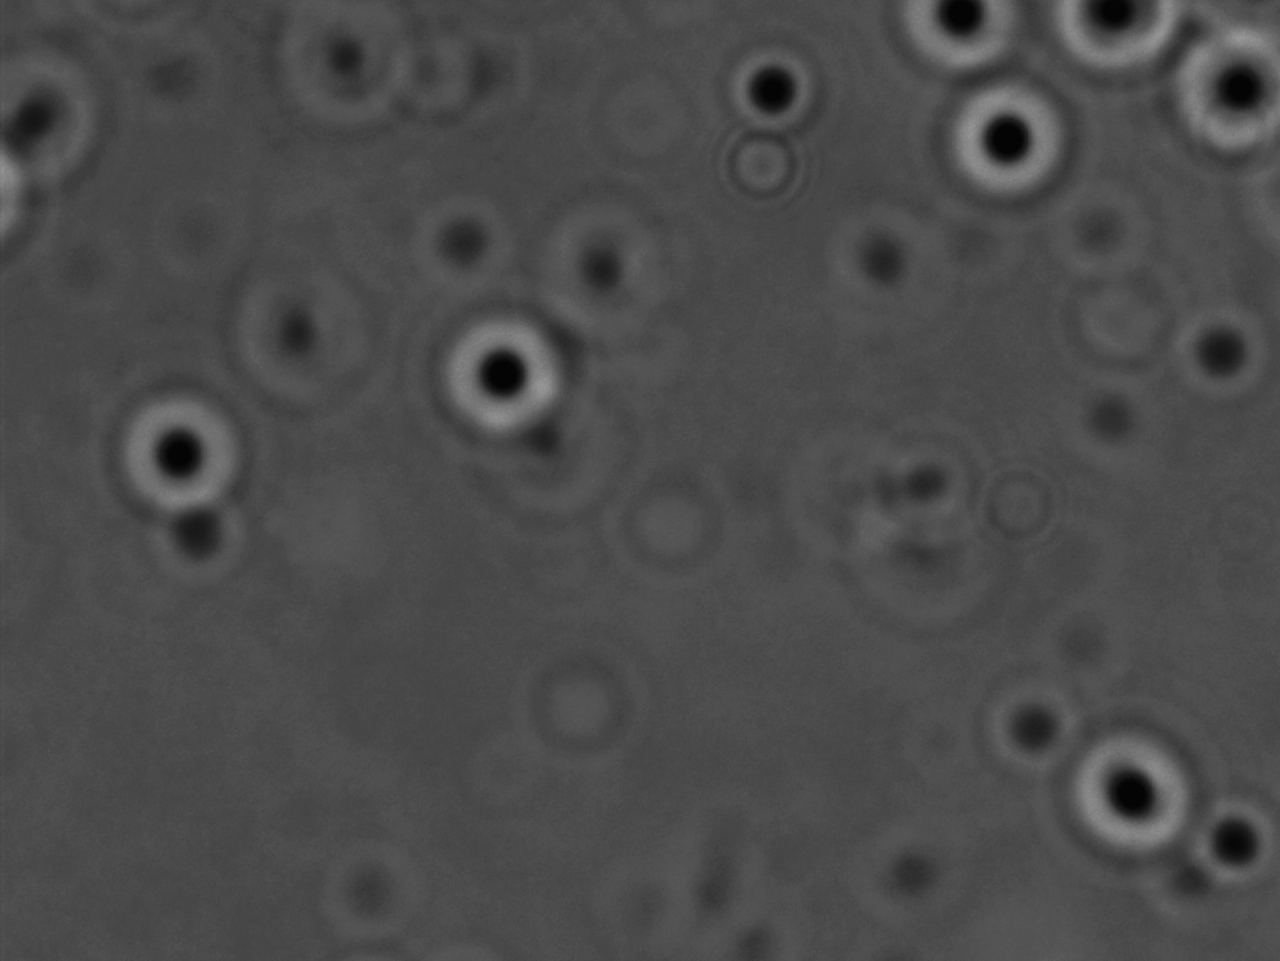depth:-32: (1057, 715, 1206, 877), (425, 299, 573, 447), (933, 69, 1080, 212), (115, 388, 260, 530), (1140, 26, 1280, 168)
